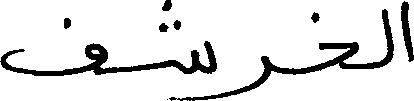X: (0, 13, 106, 80), (158, 0, 215, 100), (233, 51, 271, 99), (320, 37, 357, 75), (401, 0, 413, 66), (381, 4, 392, 71)
